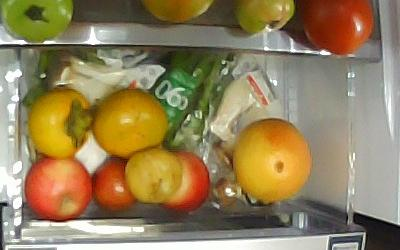apple: (24, 157, 92, 221), (157, 150, 210, 212)
grapefruit: (234, 117, 313, 204)
persimmon: (93, 88, 168, 159), (26, 86, 92, 160)
prune: (124, 149, 185, 204), (93, 157, 137, 210)
